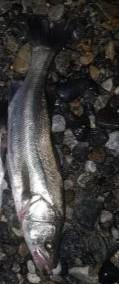fish: (6, 15, 70, 279)
